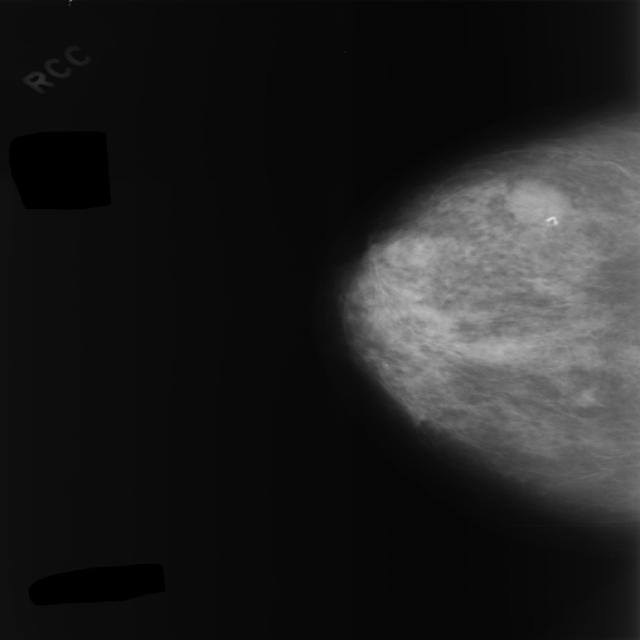tumour: (504, 176, 572, 225)
